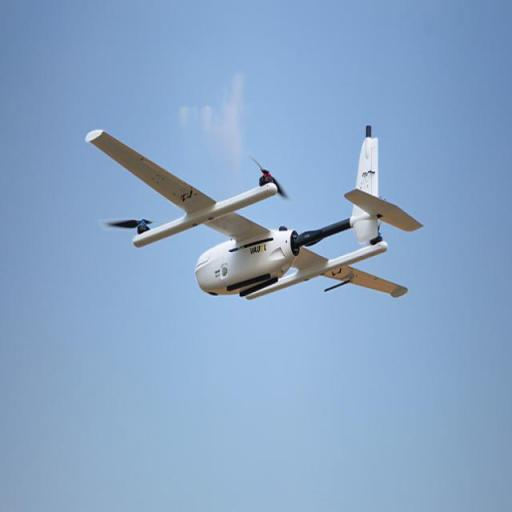uav: (82, 115, 438, 327)
